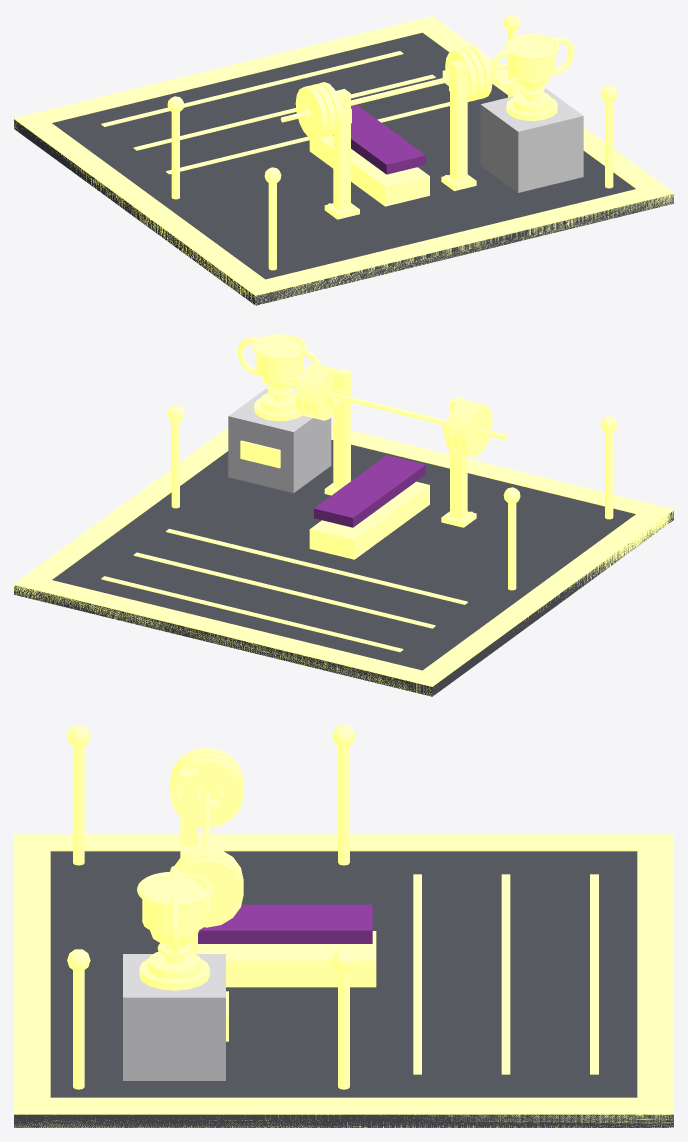
Rendered from VipTable1_RoyalGold.fbx.
3 views of the same model, one above another, from view 1: azimuth 30°, elevation 25°; view 2: azimuth 150°, elevation 25°; view 3: azimuth 270°, elevation 25° (orthographic). The views are drawn at different scales.
Visible parts, largest first — view 1: VipTable1, VipTable1_RimNS_-1, Cube.093, VipTable1_RimEW_-1, VipTable1_RimNS_1, Cube.092, Cube.091, VipTable1_RimEW_1, Cube.086, Cube.081, Cylinder.186, Cube.097 (+15 smaller); view 2: VipTable1, VipTable1_RimNS_1, Cube.093, VipTable1_RimEW_-1, VipTable1_RimNS_-1, VipTable1_RimEW_1, Cube.091, Cube.092, Cube.086, Cylinder.186, Cube.096, Cube.097 (+11 smaller); view 3: VipTable1, VipTable1_RimEW_1, Cube.093, VipTable1_RimNS_1, VipTable1_RimNS_-1, VipTable1_RimEW_-1, Cube.092, Cube.091, Cylinder.186, Cylinder.169, Cylinder.176, Cube.096 (+10 smaller).
Boxes of the visible parts, <box> form: VipTable1: <box>14,32,673,305</box>; VipTable1_RimNS_-1: <box>242,183,673,305</box>; Cube.093: <box>480,88,583,192</box>; VipTable1_RimEW_-1: <box>27,122,264,294</box>; VipTable1_RimNS_1: <box>14,16,445,131</box>; Cube.092: <box>309,135,429,206</box>; Cube.091: <box>333,104,425,174</box>; VipTable1_RimEW_1: <box>422,26,659,188</box>; Cube.086: <box>450,60,467,182</box>; Cube.081: <box>333,89,350,210</box>; Cylinder.186: <box>508,37,555,80</box>; Cube.097: <box>101,51,403,126</box>; VipTable1: <box>14,440,673,696</box>; VipTable1_RimNS_1: <box>14,574,445,695</box>; Cube.093: <box>228,388,331,493</box>; VipTable1_RimEW_-1: <box>423,513,660,676</box>; VipTable1_RimNS_-1: <box>331,425,673,529</box>; VipTable1_RimEW_1: <box>28,427,228,579</box>; Cube.091: <box>314,455,425,527</box>; Cube.092: <box>309,481,429,559</box>; Cube.086: <box>333,368,350,489</box>; Cylinder.186: <box>256,338,303,380</box>; Cube.096: <box>133,552,435,628</box>; Cube.097: <box>101,576,403,652</box>; VipTable1: <box>14,851,673,1127</box>; VipTable1_RimEW_1: <box>50,1097,637,1127</box>; Cube.093: <box>123,954,225,1080</box>; VipTable1_RimNS_1: <box>637,834,673,1127</box>; VipTable1_RimNS_-1: <box>14,834,50,1127</box>; VipTable1_RimEW_-1: <box>50,834,637,851</box>; Cube.092: <box>198,931,376,987</box>; Cube.091: <box>198,904,372,943</box>; Cylinder.186: <box>142,877,206,934</box>; Cylinder.169: <box>170,757,243,827</box>; Cylinder.176: <box>178,857,243,927</box>; Cube.096: <box>501,874,510,1074</box>.
Bounding box in the file's own units: 4.48 × 4.48 × 1.41.
